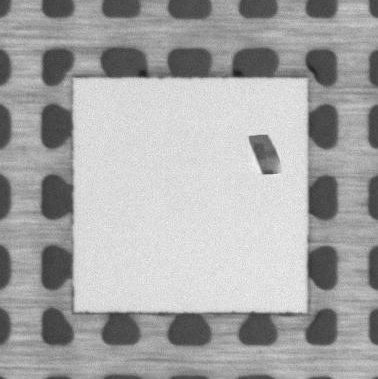DIE_INK: (248, 133, 284, 180)
